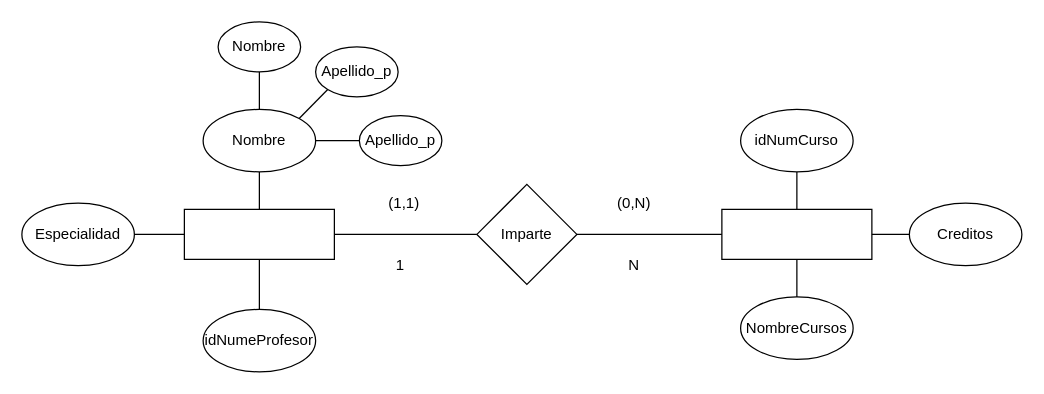
Some shapes in this 1044 by 394 pixel diagram are drawn without their labels. Each missing label, with the centre of its shape:
"Curso" goes at point (796, 233).
"Profesor" goes at point (258, 233).
